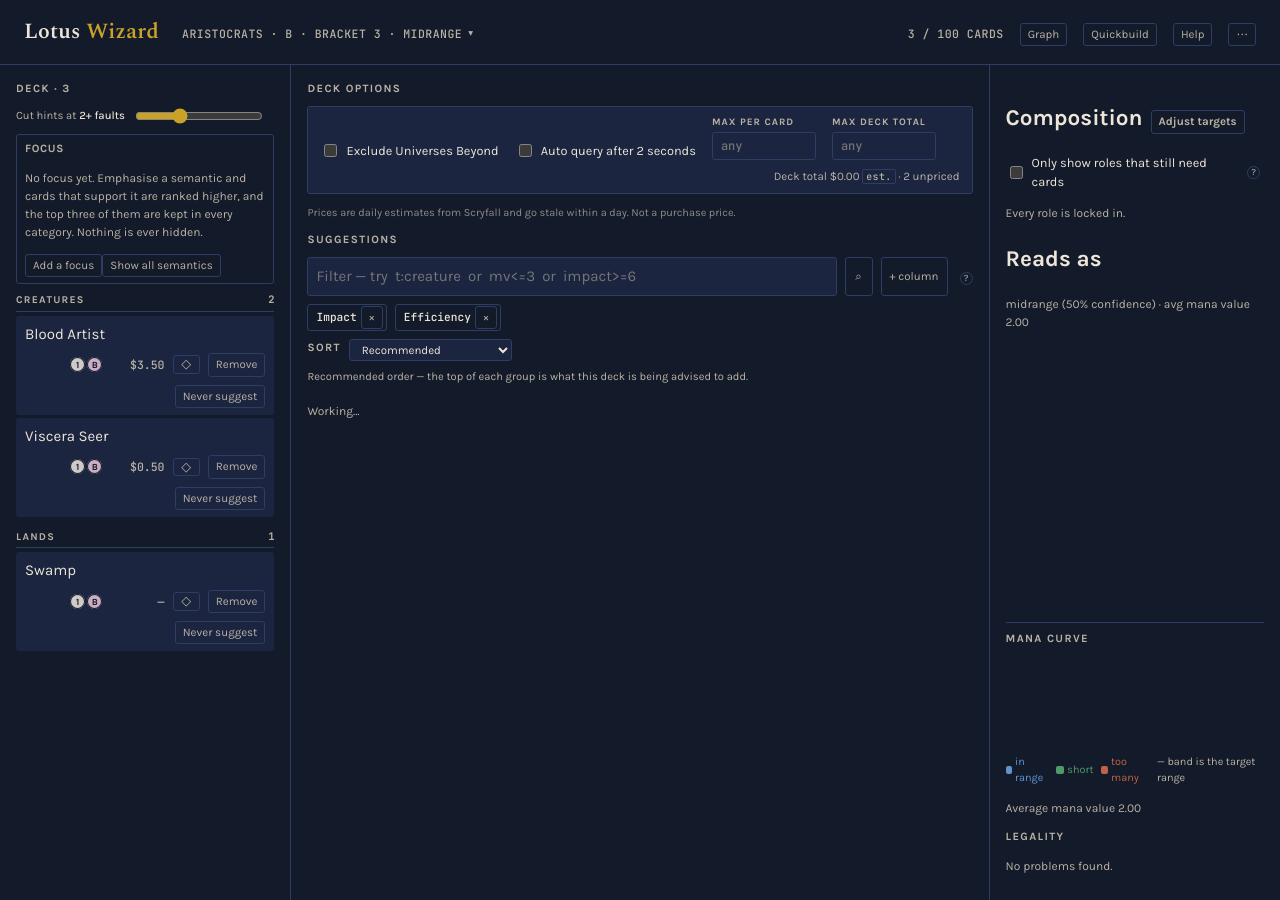
entering and leaving the mode › swaps the workspace for the web, and keeps the masthead
This screenshot has width=1280, height=900.
Expected: the button "Viscera Seer" is shown, [25,425,266,447]
What coordinates should you click on to do the following:
click the button "Graph"
I would click on:
 (1044, 35)
Its box is [1020,23,1067,46].
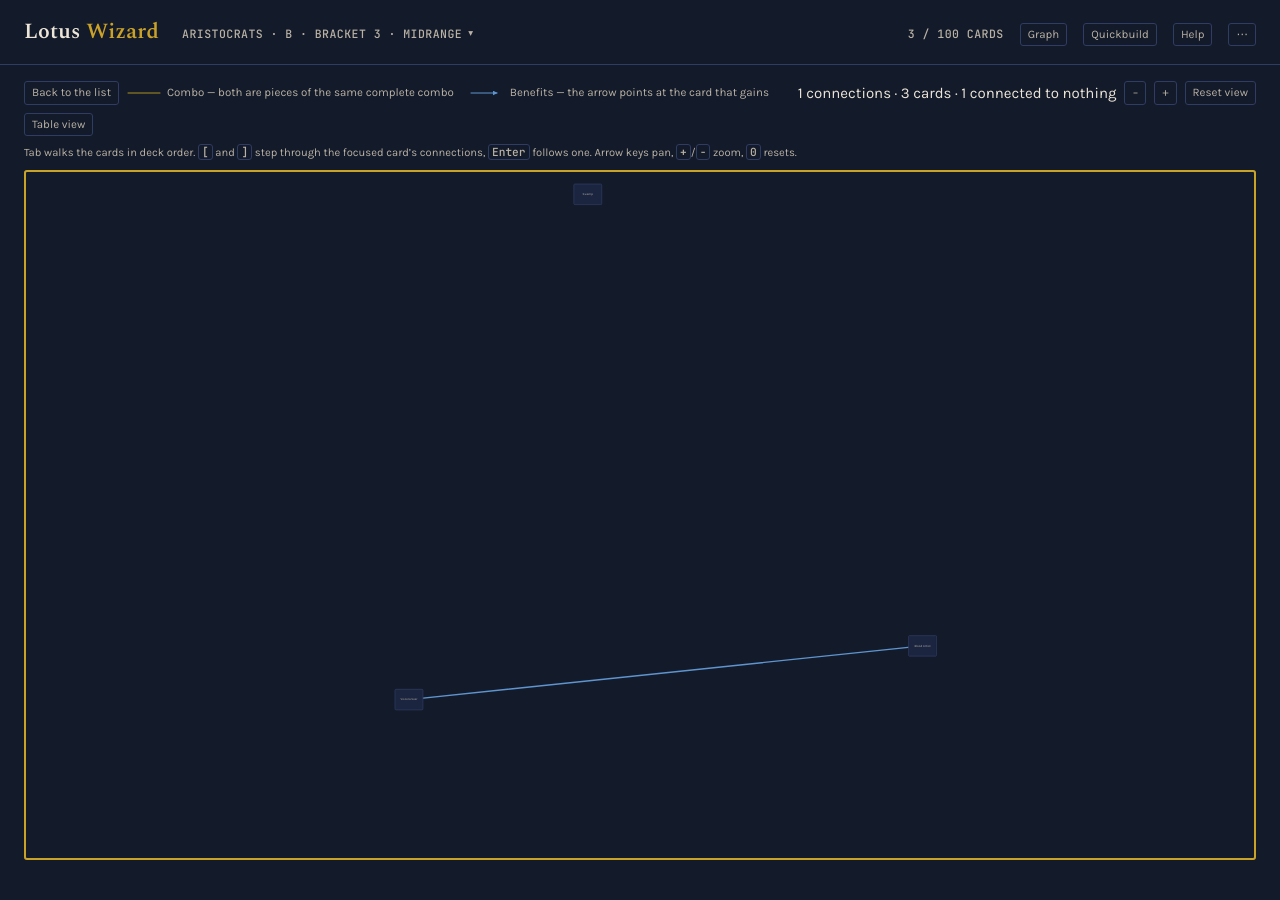
Expected: the heading "Lotus Wizard" is shown, [24,16,159,48]
Now the element named "Deck graph for" is shown
Now the element named "Deck graph for Aristocrats" is shown
